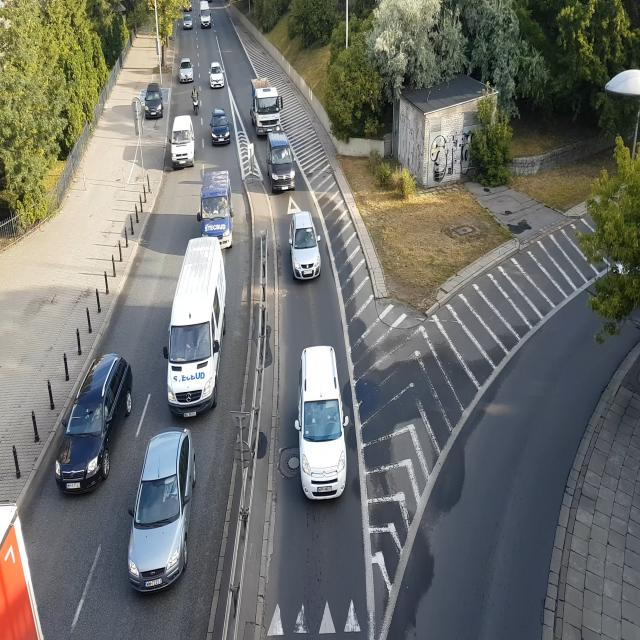car: (53, 355, 129, 492), (171, 236, 223, 425), (129, 434, 190, 590), (294, 340, 354, 498), (286, 208, 322, 284), (198, 174, 235, 247), (263, 130, 298, 190), (165, 113, 198, 171), (210, 106, 234, 147), (144, 78, 164, 119), (206, 59, 228, 93), (178, 57, 194, 90), (198, 1, 212, 32), (180, 11, 194, 32)
motorcycle: (190, 80, 203, 113)
truck: (0, 495, 53, 640), (250, 76, 288, 132)
